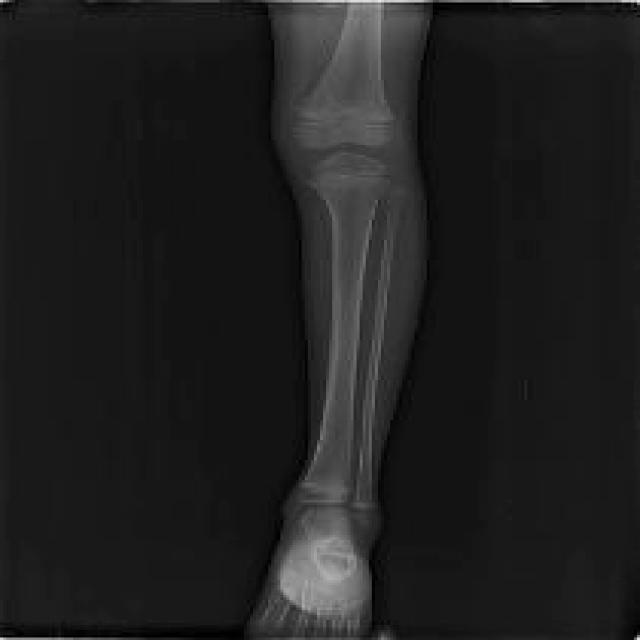normal: (251, 3, 404, 639)
